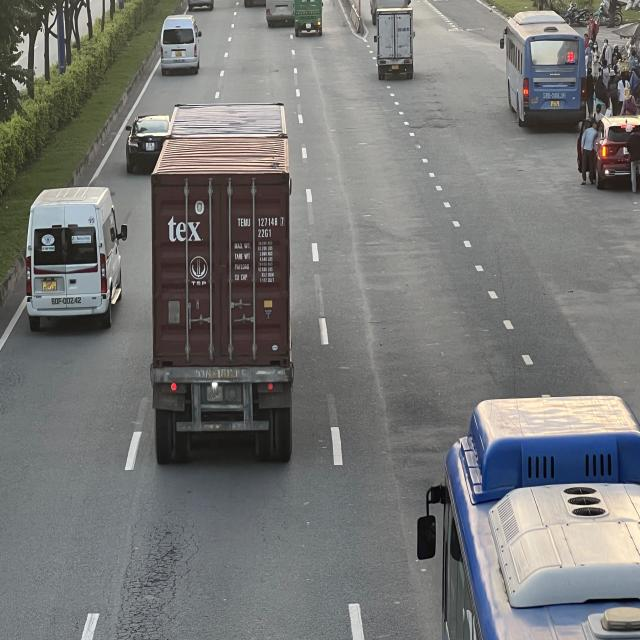car: (126, 115, 173, 174)
coach: (414, 394, 640, 636), (502, 11, 586, 128)
container: (153, 101, 298, 464)
truck: (376, 0, 418, 78), (292, 0, 323, 37)
van: (25, 184, 128, 328), (161, 16, 205, 76)
